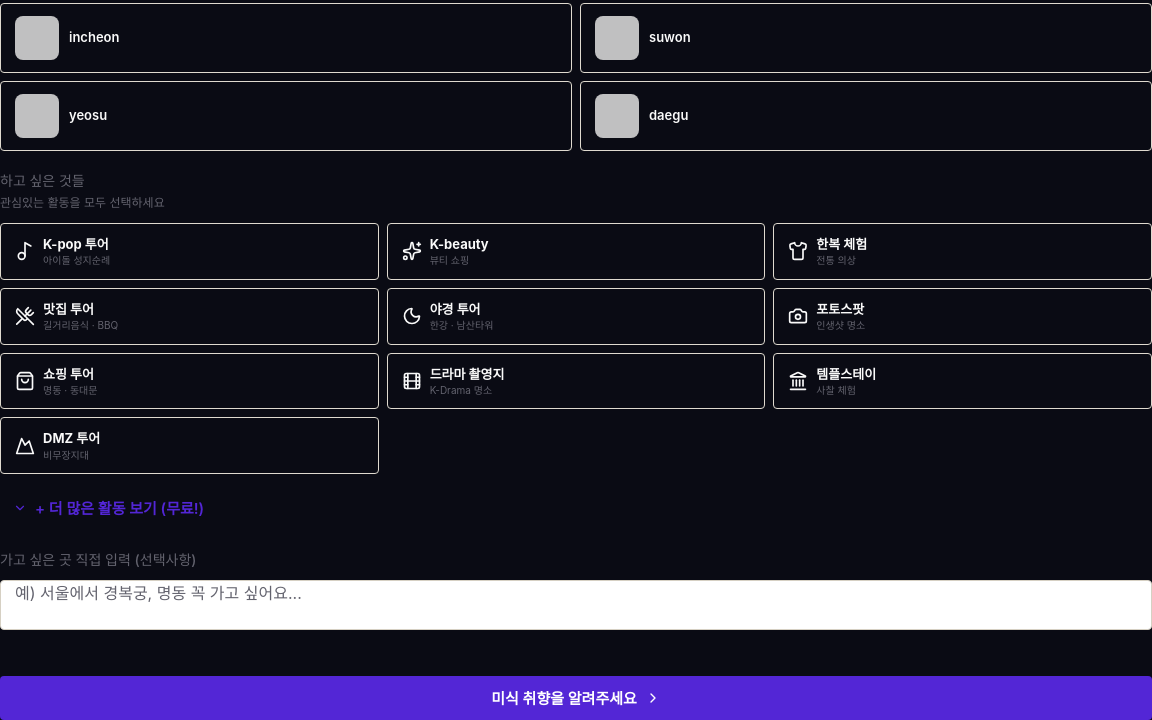
목적지 스텝 — 첫 빈 칸으로 데려간다 › 도시·활동 둘 다 비면 둘 다 말하고, 도시 칸으로 포커스가 간다
(page scrolled)
Step 1. Click the button "미식 취향을 알려주세요" → [576, 698], box [0,676,1151,719]
(page scrolled)
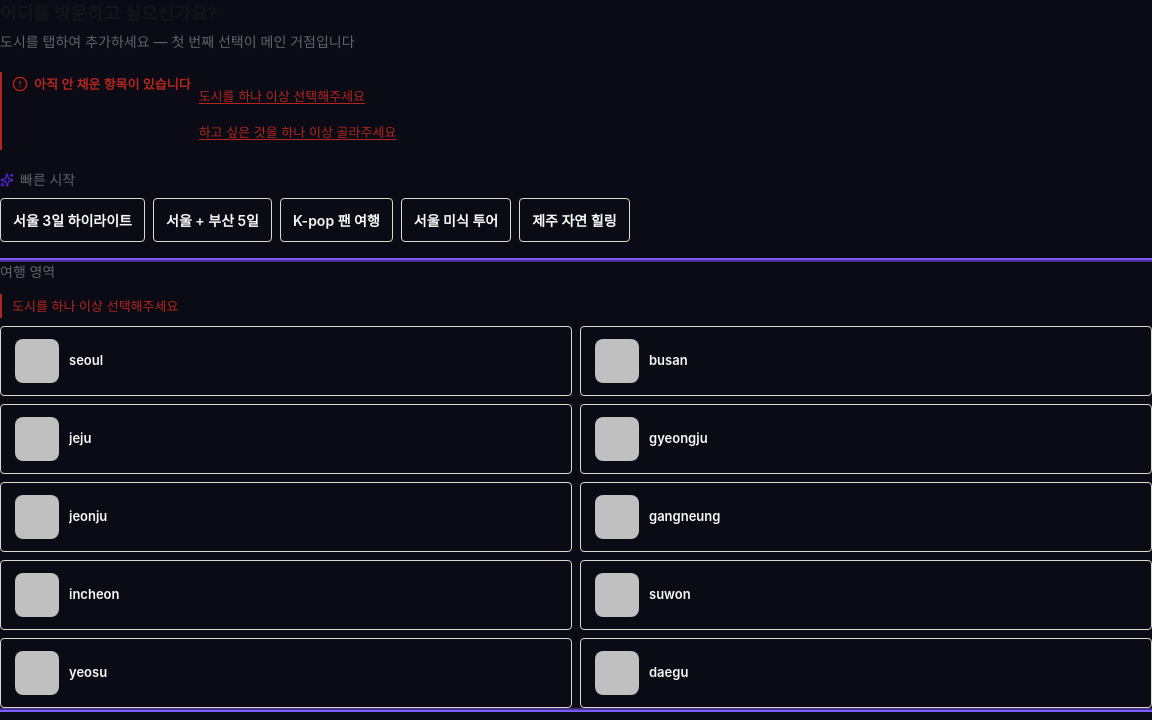
Expected: the text "여행 영역" is shown, [0,263,55,280]
Now the button "도시를 하나 이상 선택해주세요" is shown, box [199,80,365,112]
Now the button "하고 싶은 것을 하나 이상 골라주세요" is shown, box [199,116,396,148]
